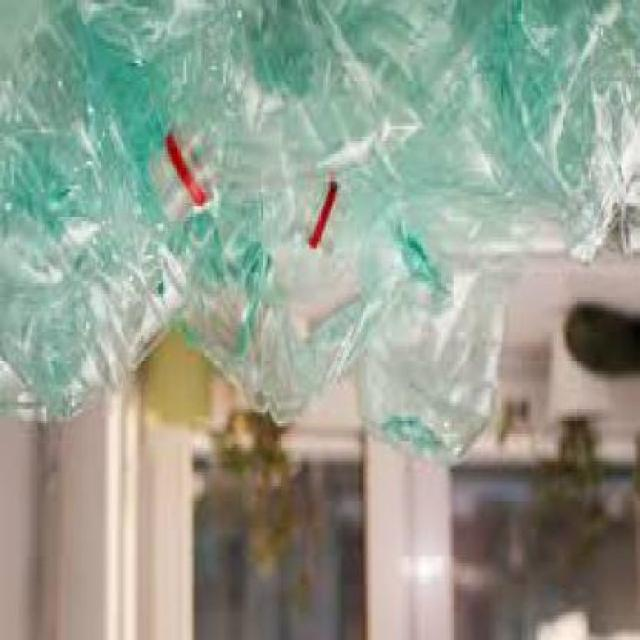PLASTIC: (0, 3, 195, 430), (147, 3, 501, 228), (65, 4, 342, 262), (465, 4, 638, 273), (175, 248, 391, 430), (350, 273, 508, 465), (352, 174, 542, 328)
